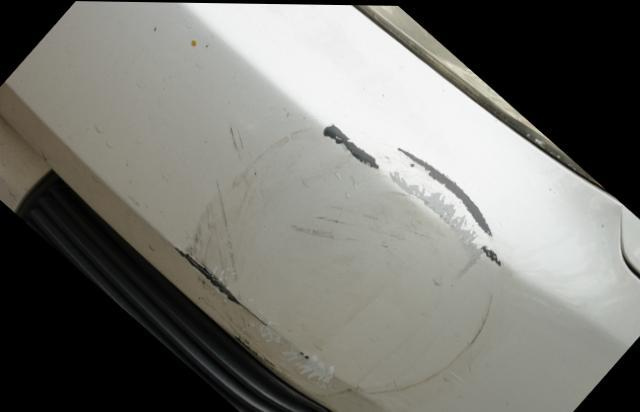scratch: (173, 118, 507, 411)
